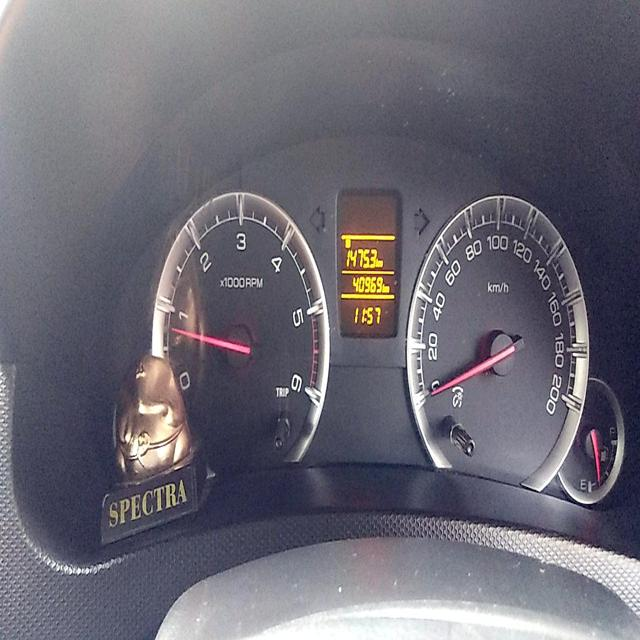odometer: (350, 274, 383, 296)
